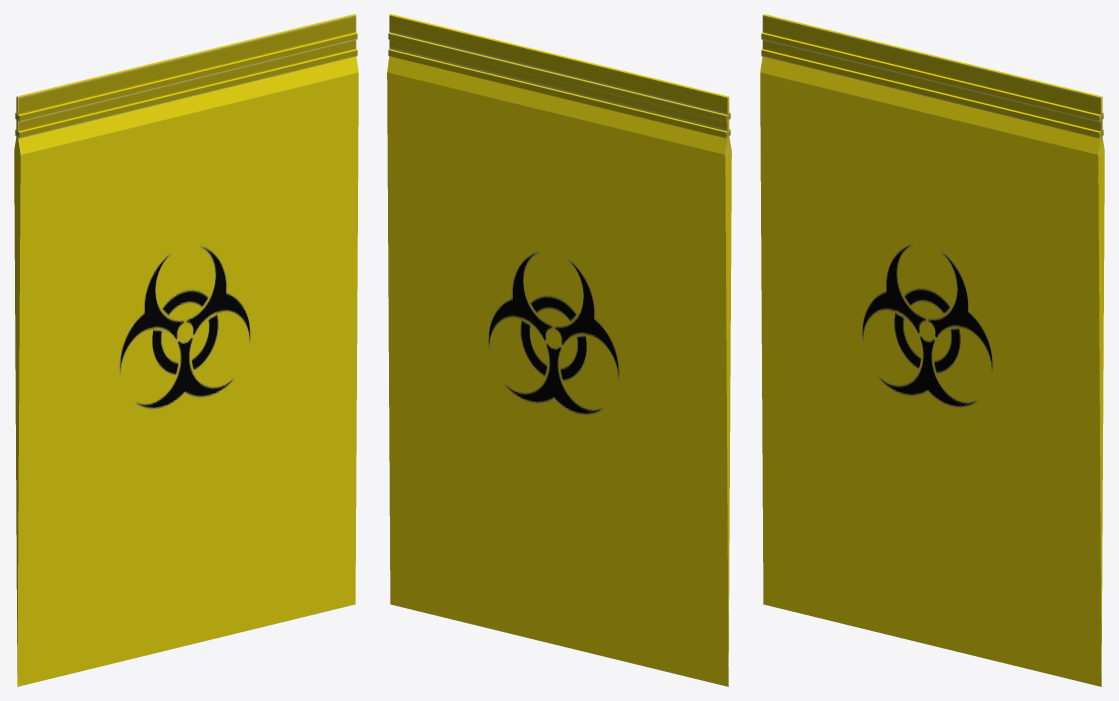
File: EvidenceBag.fbx
3 views of the same model, side by side, from view 1: azimuth 30°, elevation 25°; view 2: azimuth 150°, elevation 25°; view 3: azimuth 330°, elevation 25° (orthographic).
Parts seen in each view (by area): view 1: Evidence Bag; view 2: Evidence Bag; view 3: Evidence Bag.
Boxes of the visible parts, left/top/right/bottom form: Evidence Bag: left=14, top=14, right=358, bottom=686; Evidence Bag: left=387, top=14, right=731, bottom=686; Evidence Bag: left=760, top=14, right=1104, bottom=686.
Size of the model in its own units: 24 by 40 by 0.7998.
